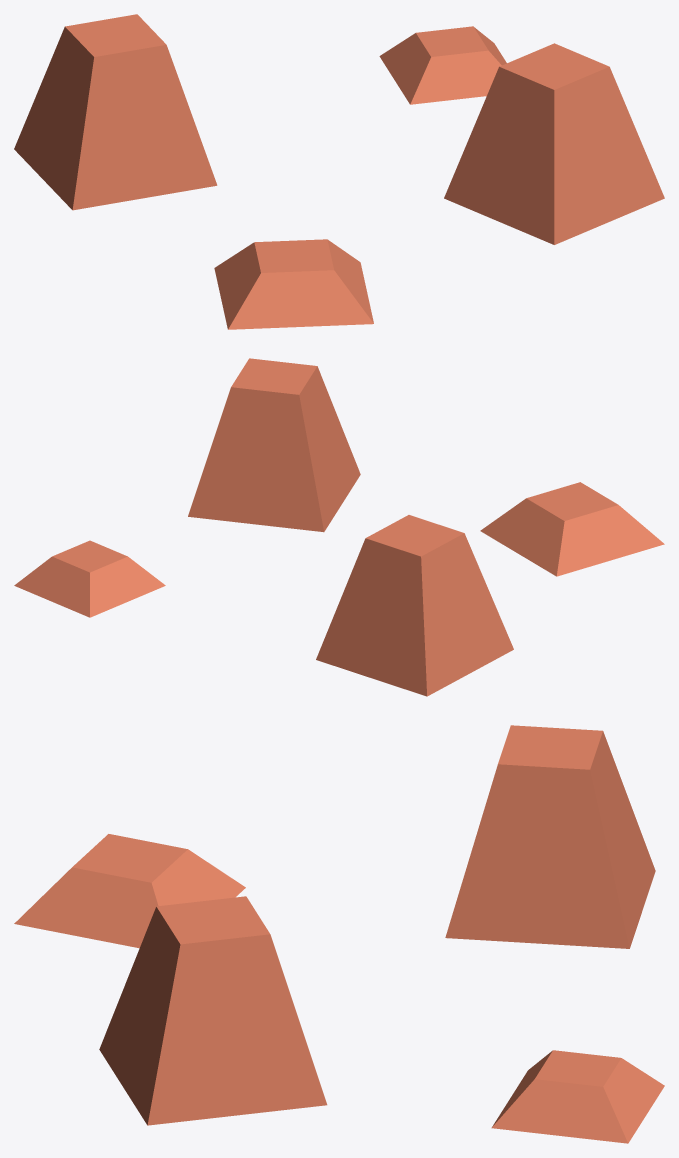
The model's file is rocks_smallB.glb.
3 renders of one model, top to bottom at view 1: azimuth 30°, elevation 25°; view 2: azimuth 150°, elevation 25°; view 3: azimuth 270°, elevation 25°, orthographic. The views are drawn at different scales.
Parts seen in each view (by area): view 1: rocks_smallB; view 2: rocks_smallB; view 3: rocks_smallB.
Part boxes in pixels (x1,y1,x2,y2): rocks_smallB: (14,14,664,329); rocks_smallB: (14,358,664,696); rocks_smallB: (14,725,664,1143).
Size of the model in its own units: 0.7288 by 0.186 by 0.6988.
